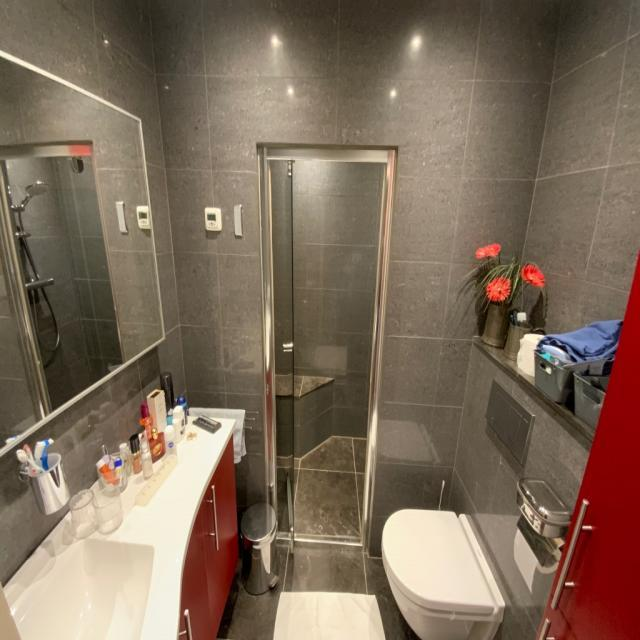douche: (255, 138, 400, 556)
toilet: (382, 377, 535, 640)
wastafel: (0, 535, 155, 640), (178, 433, 239, 640)
